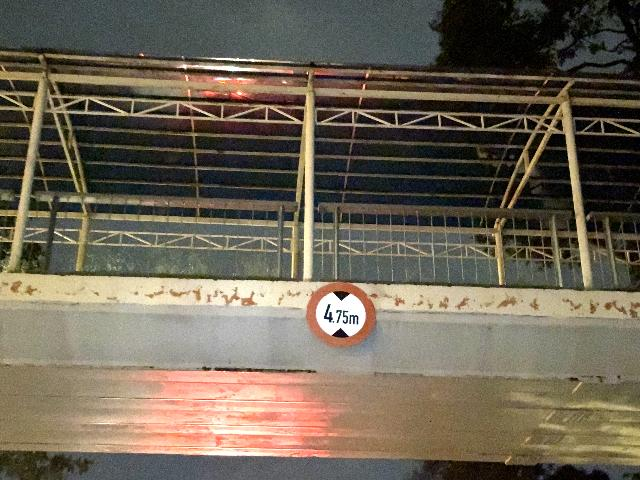han-che-chieu-cao: (306, 281, 375, 347)
